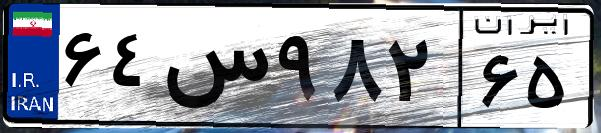2: (385, 28, 445, 110)
4: (110, 28, 158, 98)
5: (525, 38, 570, 115)
6: (57, 26, 110, 100), (475, 38, 525, 113)
8: (330, 28, 385, 110)
9: (270, 28, 330, 110)
س: (158, 20, 270, 120)
